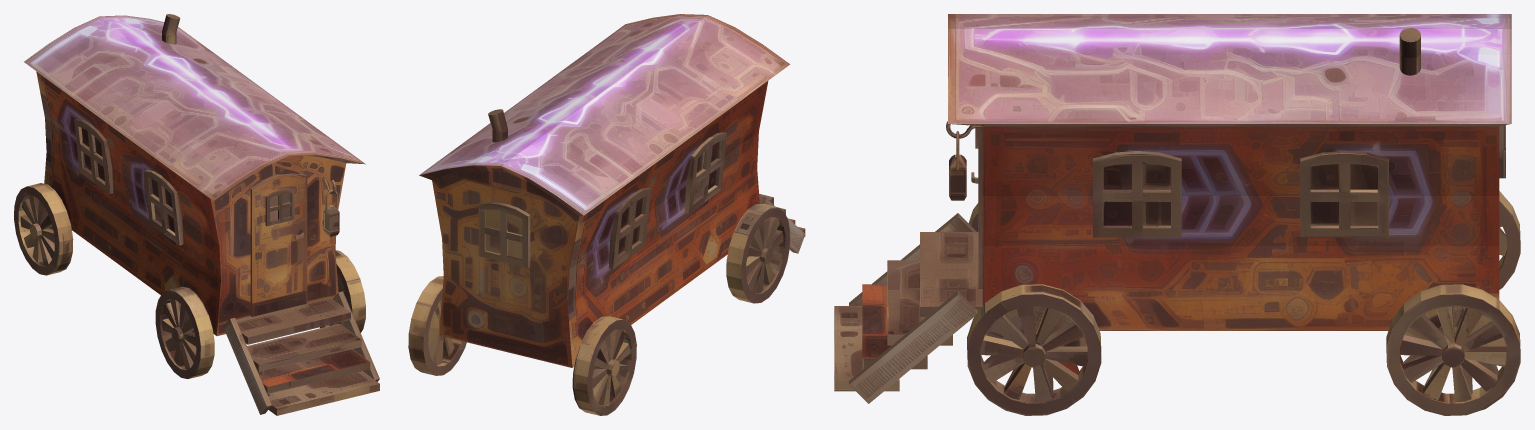
Rendered from textured_paint3d.glb.
The picture shows the model from 3 angles, left to right: view 1: azimuth 30°, elevation 25°; view 2: azimuth 150°, elevation 25°; view 3: azimuth 270°, elevation 25°; orthographic projection. The views are drawn at different scales.
Parts seen in each view (by area): view 1: Node-Mesh; view 2: Node-Mesh; view 3: Node-Mesh.
Part boxes in pixels (left/top/right/bottom): Node-Mesh: left=14, top=14, right=379, bottom=415; Node-Mesh: left=408, top=14, right=805, bottom=415; Node-Mesh: left=834, top=14, right=1520, bottom=415.
Bounding box in the file's own units: 0.853 × 1.16 × 2.
1 material, 1 textured.
